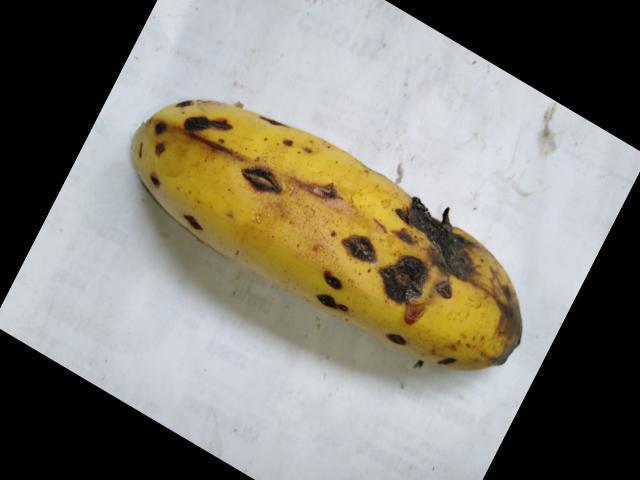rotten: (400, 183, 494, 273), (143, 77, 238, 140), (367, 252, 457, 314), (294, 259, 375, 326), (225, 152, 285, 199), (132, 151, 175, 207), (249, 101, 303, 137), (368, 322, 422, 357), (307, 177, 355, 211), (341, 240, 386, 269), (179, 204, 226, 231)
